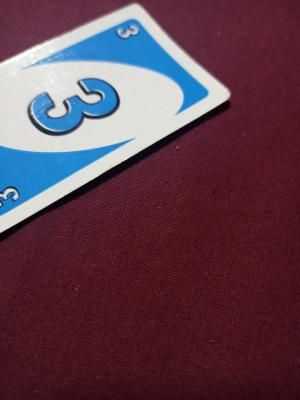blue: (14, 63, 192, 123)
num_3: (112, 22, 144, 43)
